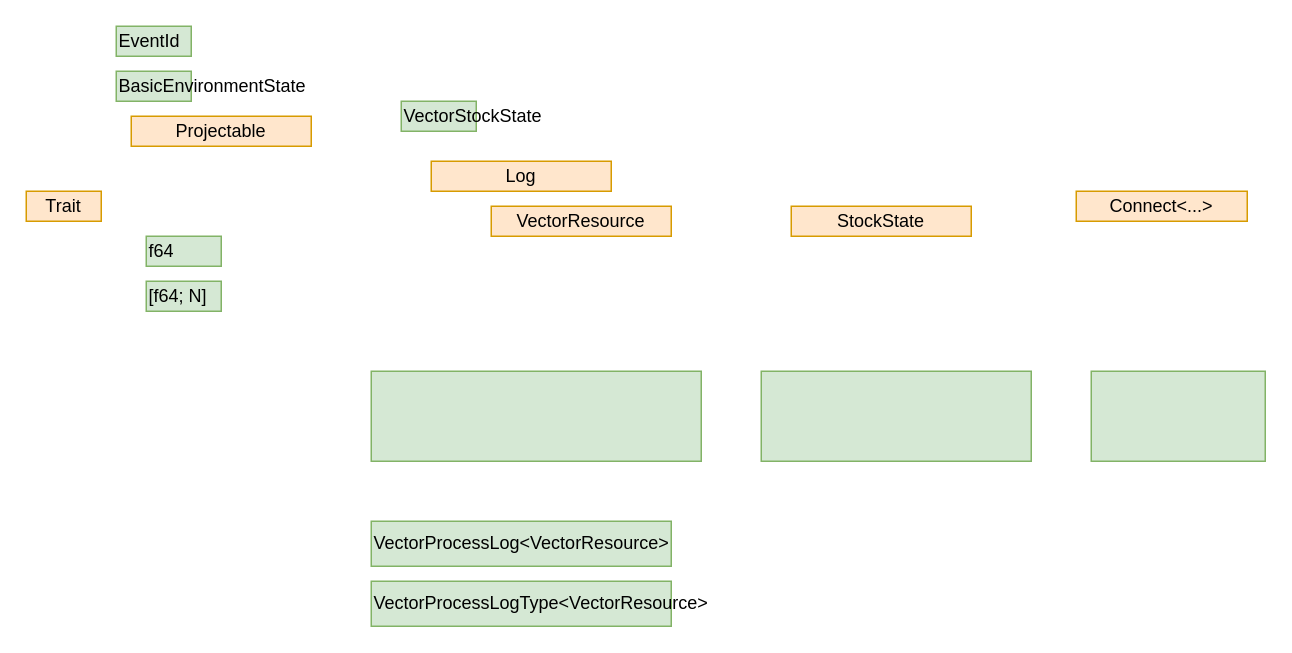
This 1292x653 diagram has some shape labels left out. Here are the shapes that lost their labels. From the top down, the box of each, then its label:
(370, 370, 701, 461): DefaultProcess< T: VectorResource, VectorProcessLog<T> >
(760, 370, 1031, 461): DefaultStock< T: VectorResource, U: StockState >
(1090, 370, 1265, 461): Connection
